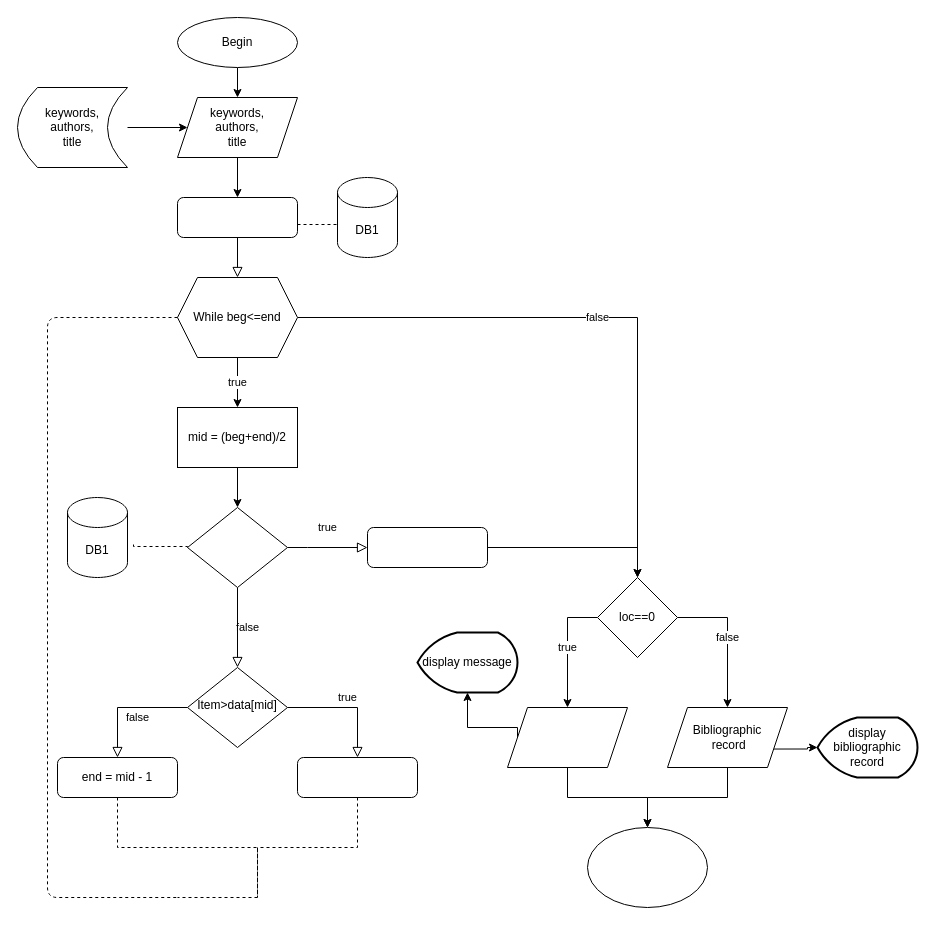
Image size: 936x925. Some labels were removed from this diagram. The centre of each missing label's shape, as x and y in pixels:
"beg = lb end = ub loc = 0" belongs at point (237, 217).
"beg = mid+1" belongs at point (357, 777).
"data[mid]=Item" belongs at point (237, 547).
"end" belongs at point (647, 867).
"loc=i" belongs at point (427, 547).
"No record was found" belongs at point (567, 737).
